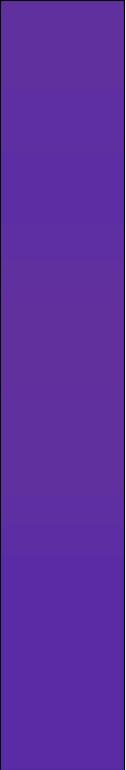safe: (13, 10, 116, 756)
